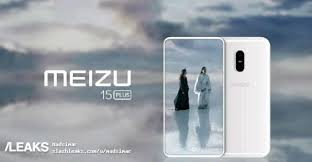meizu: (163, 35, 227, 158), (223, 34, 272, 157)
